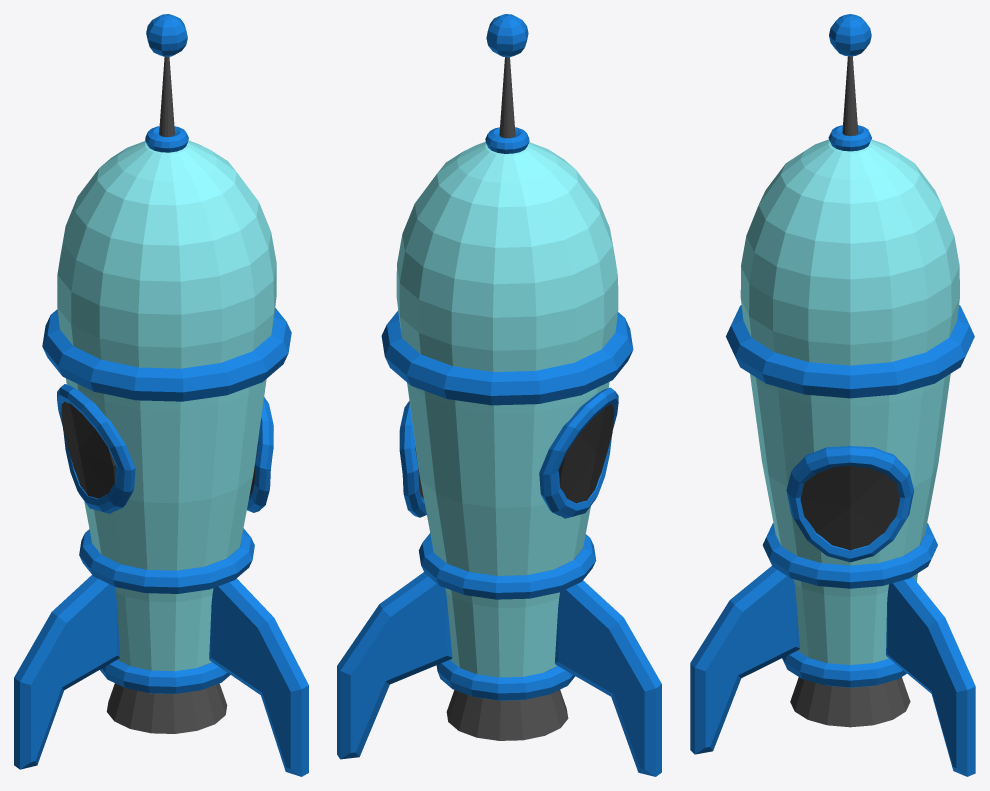
File: Rocket Full.fbx
3 renders of one model, left to right at view 1: azimuth 30°, elevation 25°; view 2: azimuth 150°, elevation 25°; view 3: azimuth 270°, elevation 25°, orthographic.
Parts seen in each view (by area): view 1: Rocket, Rocket Fins, Upper Accent, Window, Mid Accent, Thruster, Lower Accent, Tip Accent Topper, Tip, Tip Accent; view 2: Rocket, Rocket Fins, Upper Accent, Window, Mid Accent, Thruster, Lower Accent, Tip Accent Topper, Tip, Tip Accent; view 3: Rocket, Rocket Fins, Window, Upper Accent, Mid Accent, Thruster, Lower Accent, Tip Accent Topper, Tip, Tip Accent.
Boxes of the visible parts, x1=… form: Rocket: x1=57, y1=140, x2=276, y2=671; Rocket Fins: x1=14, y1=575, x2=308, y2=776; Upper Accent: x1=42, y1=308, x2=291, y2=401; Window: x1=57, y1=384, x2=273, y2=513; Mid Accent: x1=79, y1=528, x2=254, y2=593; Thruster: x1=106, y1=683, x2=227, y2=733; Lower Accent: x1=100, y1=660, x2=230, y2=693; Tip Accent Topper: x1=146, y1=14, x2=187, y2=56; Tip: x1=159, y1=56, x2=174, y2=136; Tip Accent: x1=145, y1=126, x2=188, y2=152; Rocket: x1=396, y1=142, x2=618, y2=677; Rocket Fins: x1=337, y1=572, x2=661, y2=776; Upper Accent: x1=381, y1=310, x2=633, y2=405; Window: x1=399, y1=387, x2=618, y2=518; Mid Accent: x1=418, y1=533, x2=596, y2=599; Thruster: x1=446, y1=690, x2=568, y2=740; Lower Accent: x1=436, y1=660, x2=575, y2=700; Tip Accent Topper: x1=486, y1=14, x2=528, y2=57; Tip: x1=499, y1=57, x2=515, y2=138; Tip Accent: x1=485, y1=127, x2=529, y2=153; Rocket: x1=740, y1=139, x2=959, y2=664; Rocket Fins: x1=690, y1=566, x2=975, y2=776; Window: x1=786, y1=446, x2=914, y2=562; Upper Accent: x1=726, y1=305, x2=974, y2=398; Mid Accent: x1=762, y1=523, x2=937, y2=588; Thruster: x1=790, y1=677, x2=910, y2=727; Lower Accent: x1=782, y1=650, x2=906, y2=687; Tip Accent Topper: x1=829, y1=14, x2=871, y2=56; Tip: x1=842, y1=56, x2=858, y2=135; Tip Accent: x1=828, y1=125, x2=871, y2=151.
Bounding box in the file's own units: 1085 × 2854 × 1044.
